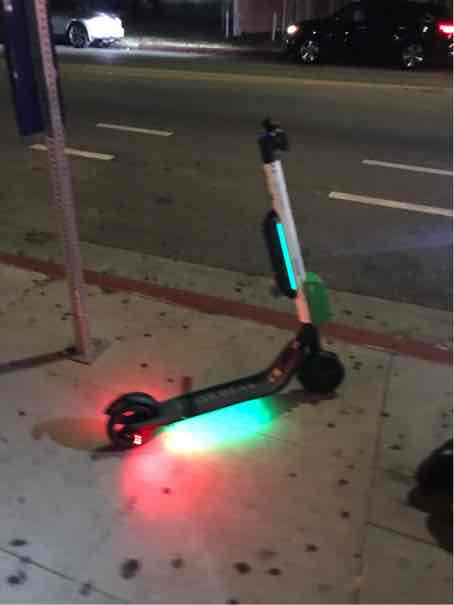scooter: (93, 103, 352, 462)
